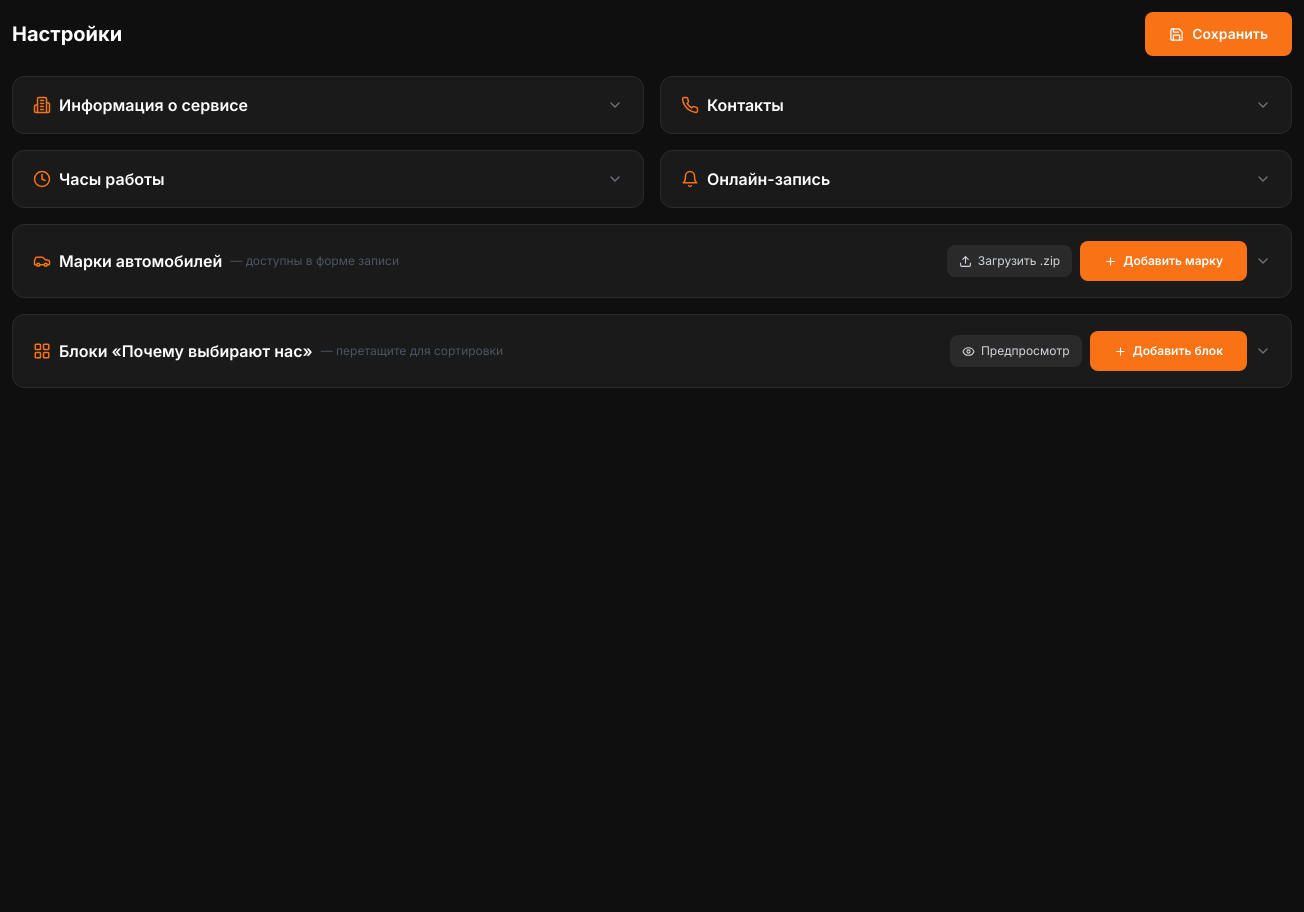
Scenario: SettingsPage › expands section when header is clicked
Click the heading "Информация о сервисе" at coordinates (154, 105), box [59,93,248,117]
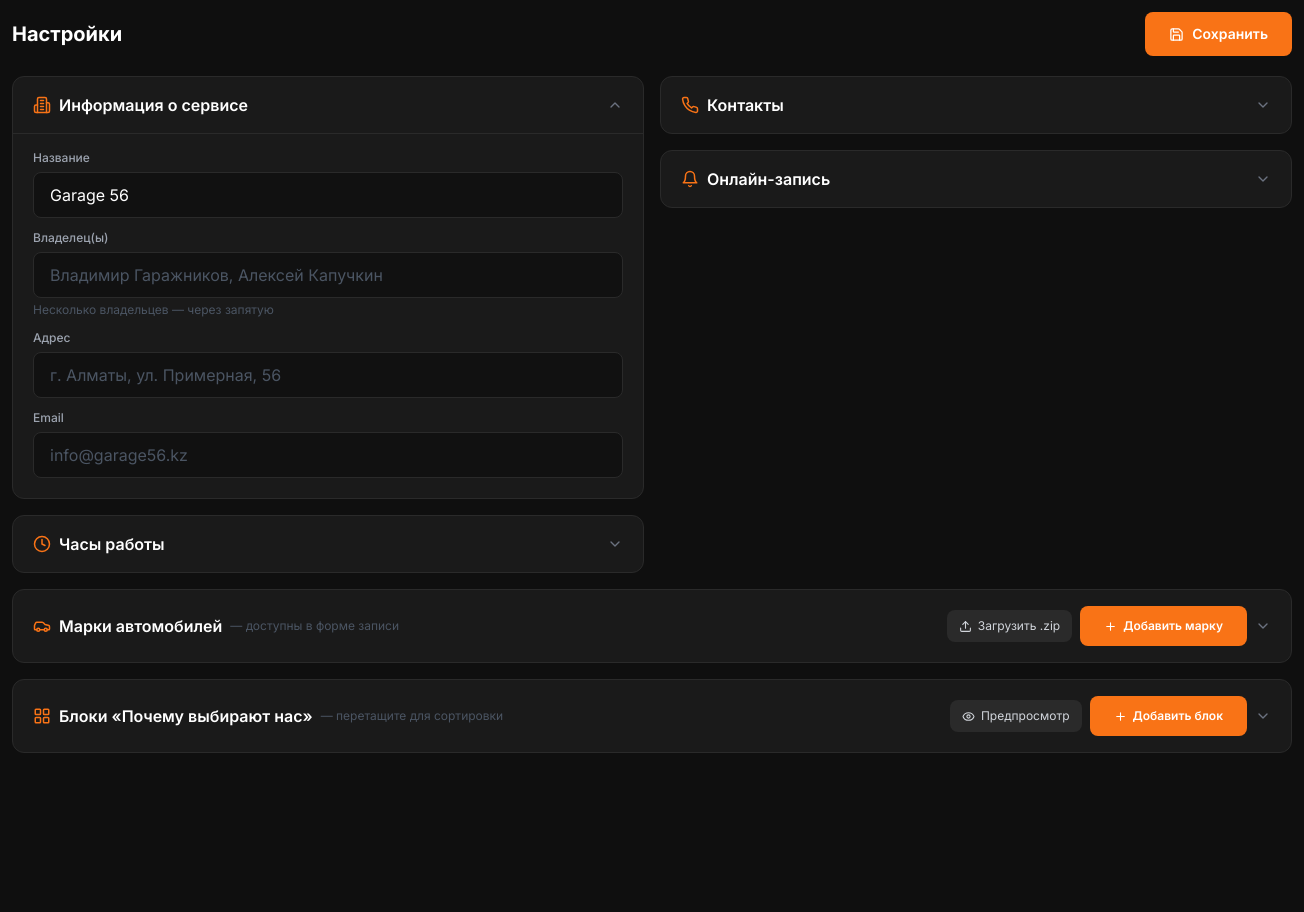
Now the text "Название" is shown, box [33,150,90,165]
